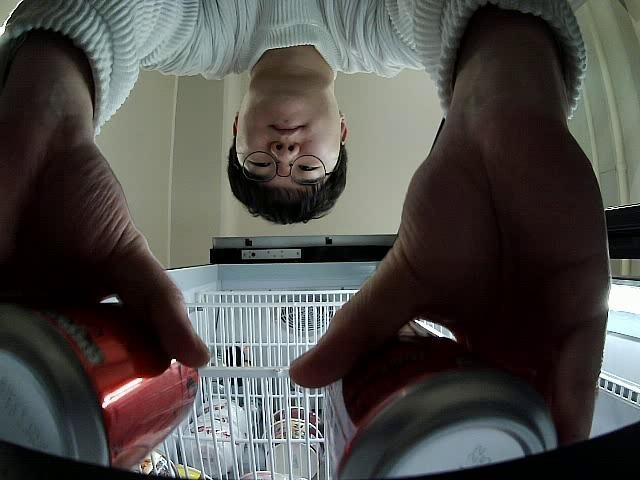11_cocaColaZero: (320, 317, 557, 480), (2, 296, 202, 470)
